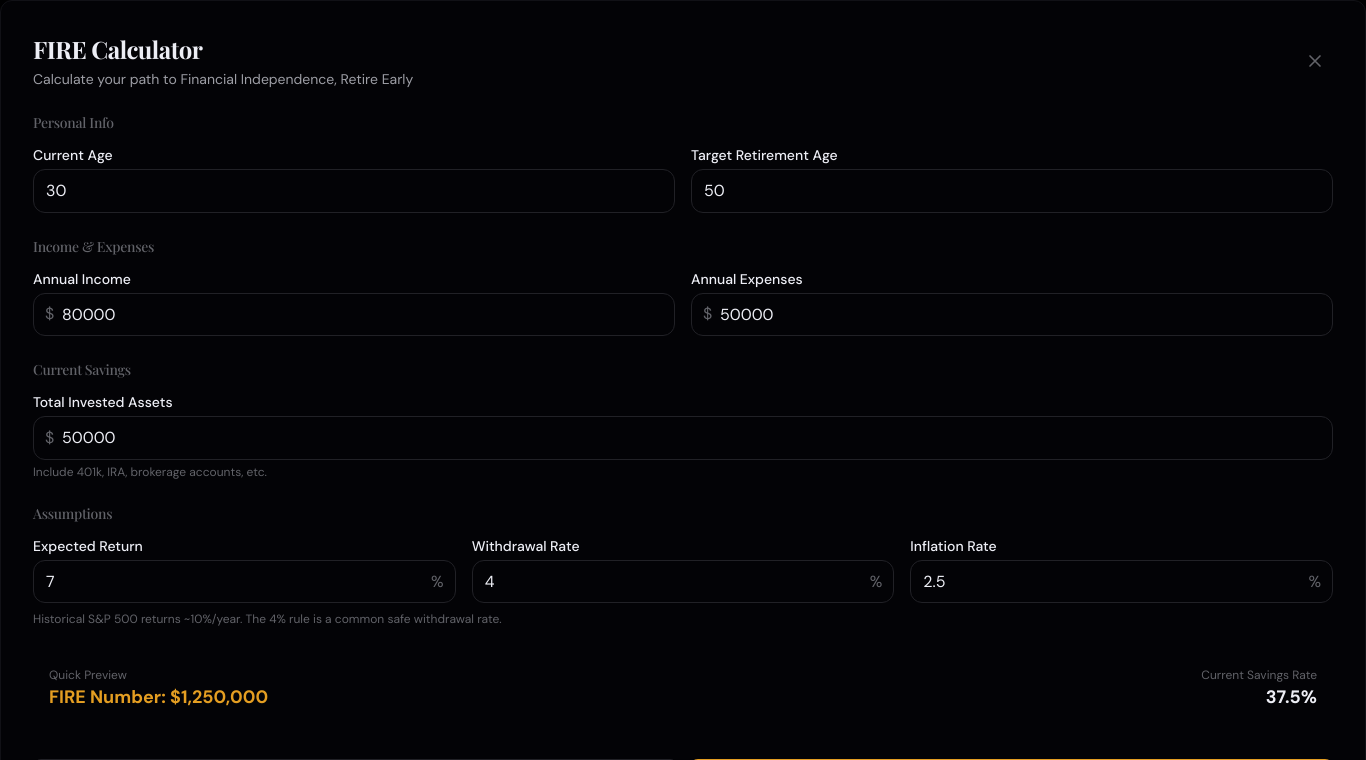
Test: FIRECalculator › Input Changes › updates savings rate when income or expenses change
Check: the text "37.5%" is shown, box [1266,685,1317,709]
Note: Change income to 100000
Replace the text in the number field showing "80000" below "Annual Income" with "100000" at coordinates (354, 314), box [33,293,675,336]
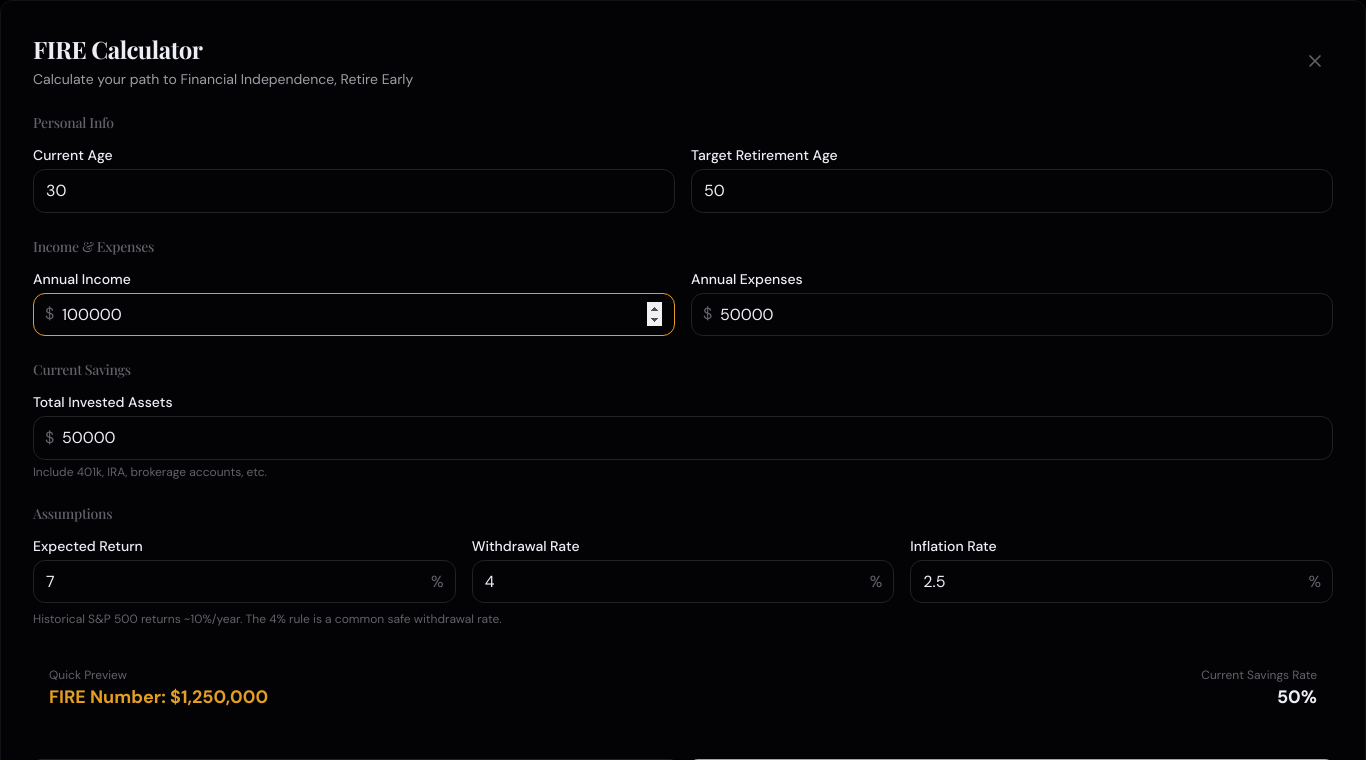
Check: the text "50%" is shown, box [1277,685,1317,709]
